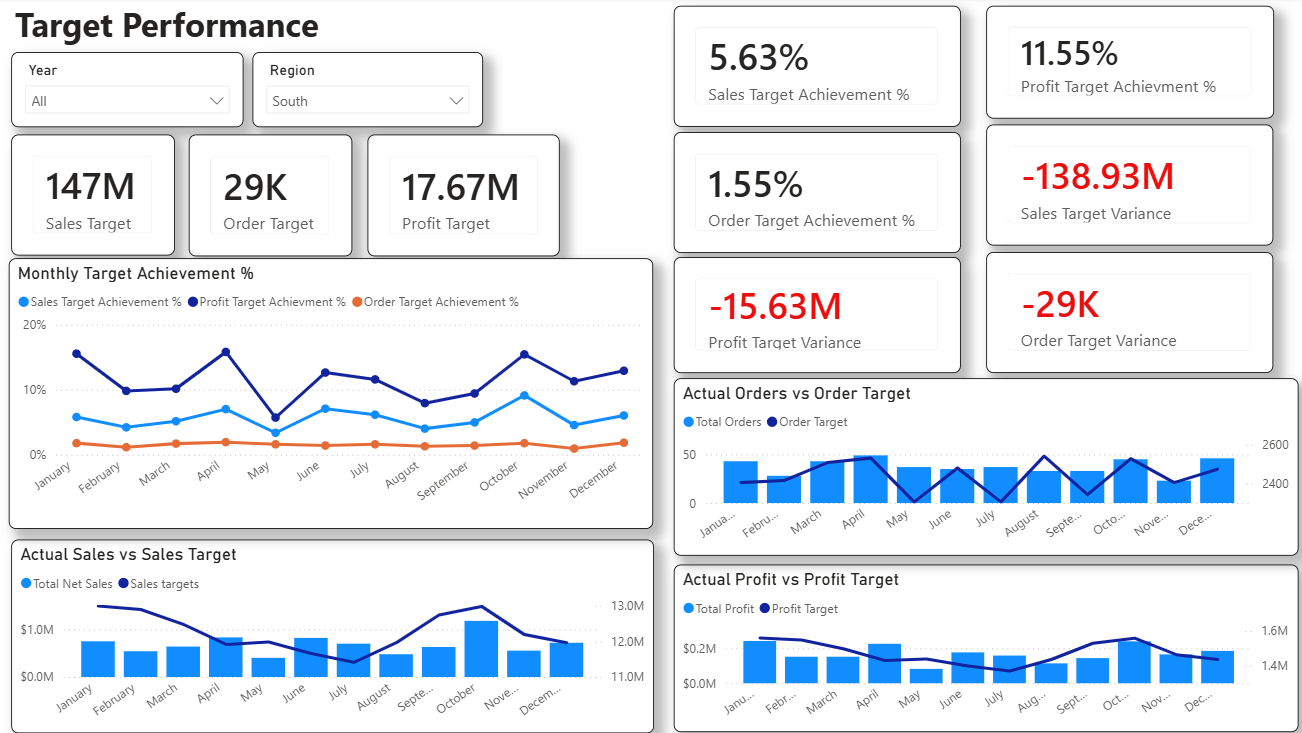

The page's visual inventory and layout, read from the dashboard file:
{"tool":"powerbi","page":{"name":"Target Performance","canvas":[1280,720],"ordinal":5},"visuals":[{"type":"textbox","box":[9.6,0,474.8,53.5],"z":0},{"type":"slicer","fields":{"Values":["Dim_Date.Year"]},"box":[10.5,53.8,227.1,73.2],"z":1000},{"type":"slicer","fields":{"Values":["Dim_Region.Region"]},"box":[246.5,53.8,225.6,73.2],"z":2000},{"type":"cardVisual","fields":{"Data":["Fact_Targets.Sales Target"]},"box":[10.5,134.5,159.9,118],"z":3000},{"type":"cardVisual","fields":{"Data":["Fact_Targets.Order Target"]},"box":[185.2,134.5,159.9,119.5],"z":4000},{"type":"cardVisual","fields":{"Data":["Fact_Targets.Profit Target"]},"box":[360,134.5,188.2,119.5],"z":5000},{"type":"lineClusteredColumnComboChart","title":"Actual Sales vs Sales Target","fields":{"Category":["Dim_Date.MonthFull"],"Y":["_Measures.Total Net Sales"],"Y2":["_Measures.Sales targets"]},"box":[10.5,530.3,628.9,189.7],"z":6000},{"type":"cardVisual","fields":{"Data":["Fact_Targets.Sales Target Achievment %"]},"box":[658.8,9,280.9,118],"z":7000},{"type":"cardVisual","fields":{"Data":["Fact_Targets.Profit Target Achievment %"]},"box":[965.1,0,280.9,118],"z":8000},{"type":"cardVisual","fields":{"Data":["_Measures.Order Target Achievement %"]},"box":[658.8,131.5,280.9,118],"z":9000},{"type":"cardVisual","fields":{"Data":["Fact_Targets.Sales Target Variance"]},"box":[965.1,127,280.9,118],"z":10000},{"type":"cardVisual","fields":{"Data":["Fact_Targets.Profit Target Variance"]},"box":[658.8,254,280.9,113.5],"z":11000},{"type":"cardVisual","fields":{"Data":["Fact_Targets.Order Target Variance"]},"box":[965.1,249.5,280.9,118],"z":12000},{"type":"lineClusteredColumnComboChart","title":"Actual Profit vs Profit Target","fields":{"Category":["Dim_Date.MonthFull"],"Y":["_Measures.Total Profit"],"Y2":["Fact_Targets.Profit Target"]},"box":[658.8,555.7,611,164.3],"z":13000},{"type":"lineClusteredColumnComboChart","title":"Actual Orders vs Order Target","fields":{"Category":["Dim_Date.MonthFull"],"Y":["_Measures.Total Orders"],"Y2":["Fact_Targets.Order Target"]},"box":[658.8,373.5,611,173.3],"z":14000},{"type":"lineChart","title":"Monthly Target Achievement %","fields":{"Category":["Dim_Date.MonthFull"],"Y":["Fact_Targets.Sales Target Achievement %","Fact_Targets.Profit Target Achievment %","_Measures.Order Target Achievement %"]},"box":[9,255.5,630.4,264.4],"z":15000}]}

Visuals, with their boxes in screenshot pixels (x1, y1, x2, y2), scaled from the page's 1280x720 canvas onto the 1302x733 screenshot:
textbox: <box>10,0,493,54</box>
slicer - Dim_Date.Year: <box>11,55,242,129</box>
slicer - Dim_Region.Region: <box>251,55,480,129</box>
cardVisual - Fact_Targets.Sales Target: <box>11,137,173,257</box>
cardVisual - Fact_Targets.Order Target: <box>188,137,351,259</box>
cardVisual - Fact_Targets.Profit Target: <box>366,137,558,259</box>
"Actual Sales vs Sales Target" lineClusteredColumnComboChart: <box>11,540,650,732</box>
cardVisual - Fact_Targets.Sales Target Achievment %: <box>670,9,956,129</box>
cardVisual - Fact_Targets.Profit Target Achievment %: <box>982,0,1267,120</box>
cardVisual - _Measures.Order Target Achievement %: <box>670,134,956,254</box>
cardVisual - Fact_Targets.Sales Target Variance: <box>982,129,1267,249</box>
cardVisual - Fact_Targets.Profit Target Variance: <box>670,259,956,374</box>
cardVisual - Fact_Targets.Order Target Variance: <box>982,254,1267,374</box>
"Actual Profit vs Profit Target" lineClusteredColumnComboChart: <box>670,566,1292,732</box>
"Actual Orders vs Order Target" lineClusteredColumnComboChart: <box>670,380,1292,557</box>
"Monthly Target Achievement %" lineChart: <box>9,260,650,529</box>
